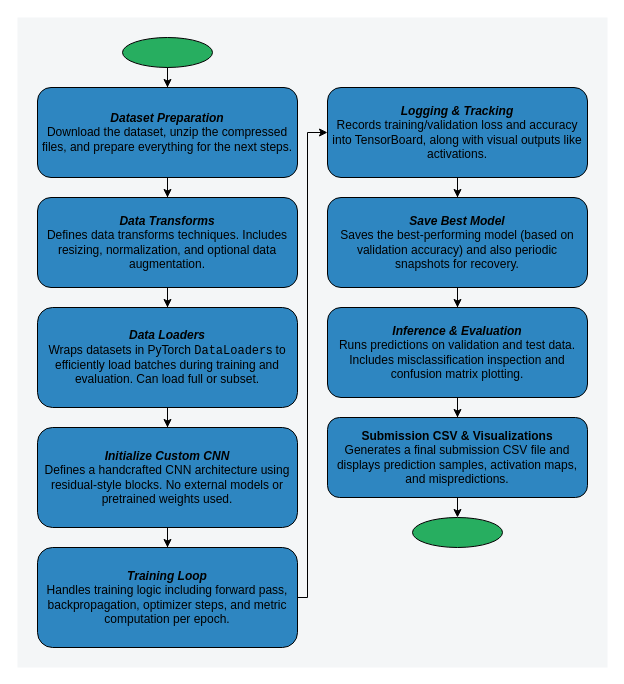
Image size: 624x684. Some labels were removed from this diagram. The shapes that lost their labels are listed below. From the top down, each one's centre as x and y in pixels, then its label:
the point at 167,52: Start
the point at 457,532: Finish
